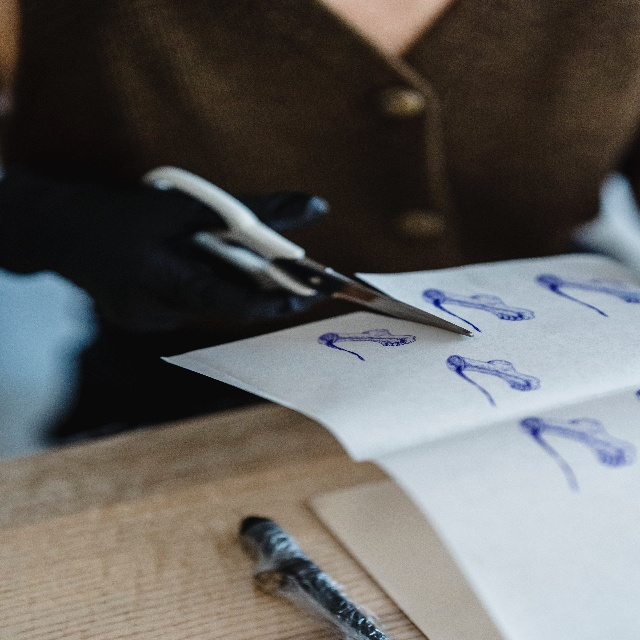Guantes: (0, 147, 337, 363)
